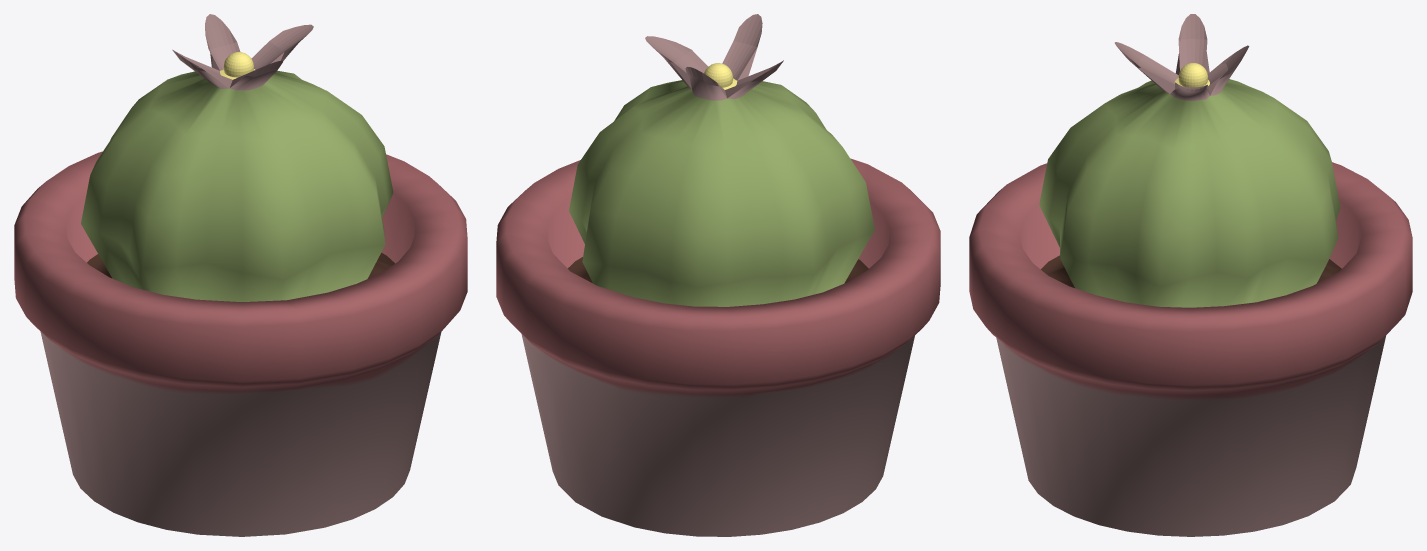
File: MOD_Placeholder_V2.fbx
The picture shows the model from 3 angles, left to right: view 1: azimuth 30°, elevation 25°; view 2: azimuth 150°, elevation 25°; view 3: azimuth 270°, elevation 25°; orthographic projection. The views are drawn at different scales.
Visible parts, largest first — view 1: Cylinder; view 2: Cylinder; view 3: Cylinder.
Part boxes in pixels (bbox=[...]): Cylinder: bbox=[14, 14, 467, 536]; Cylinder: bbox=[496, 14, 940, 536]; Cylinder: bbox=[969, 14, 1412, 536].
Size of the model in its own units: 158 by 166 by 158.
